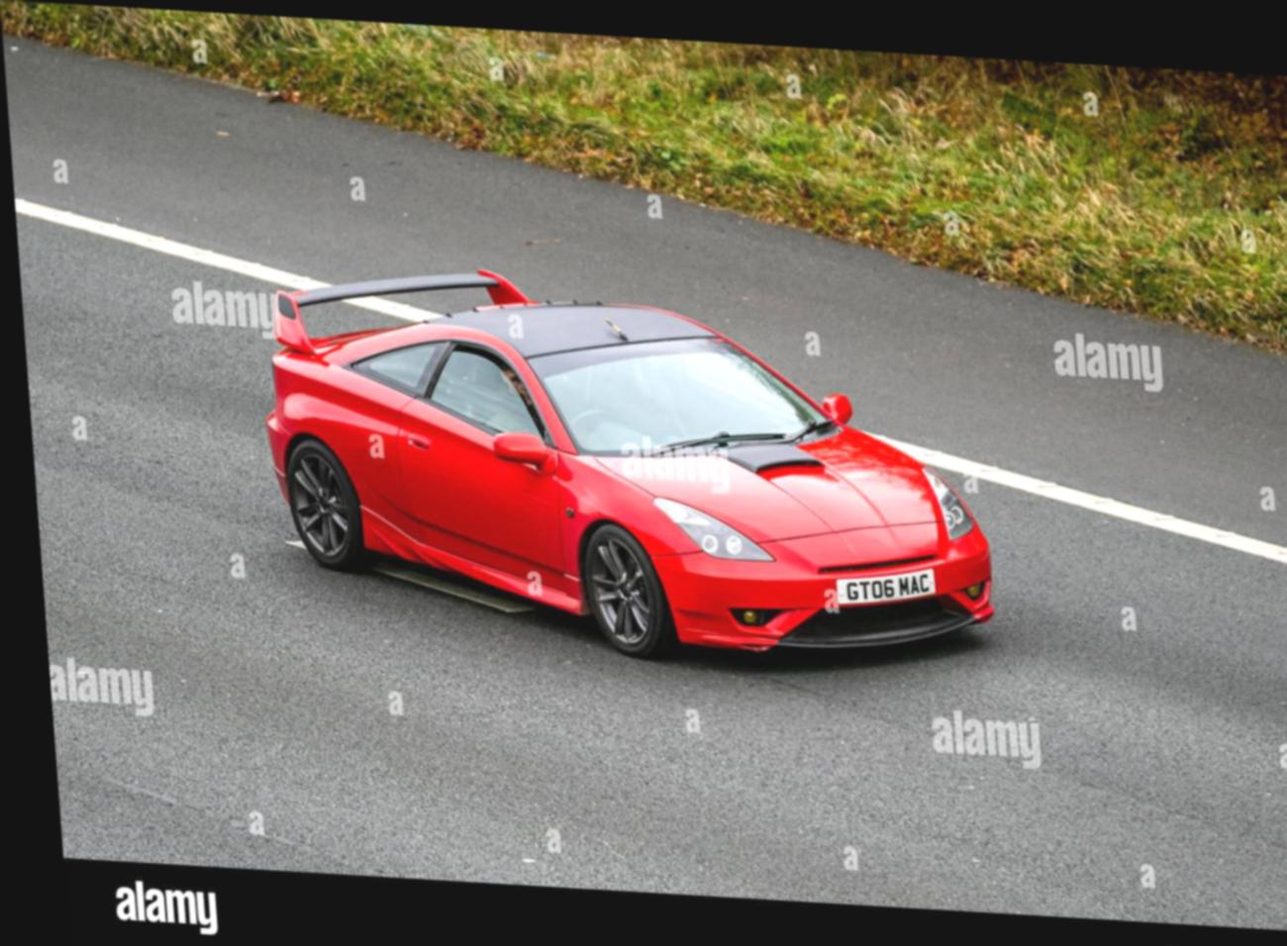License_Plate: (830, 559, 945, 620)
